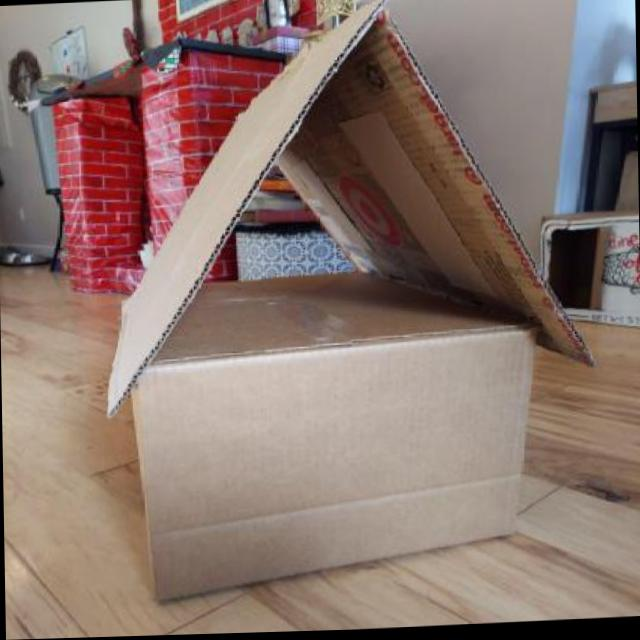box: (88, 0, 613, 614)
